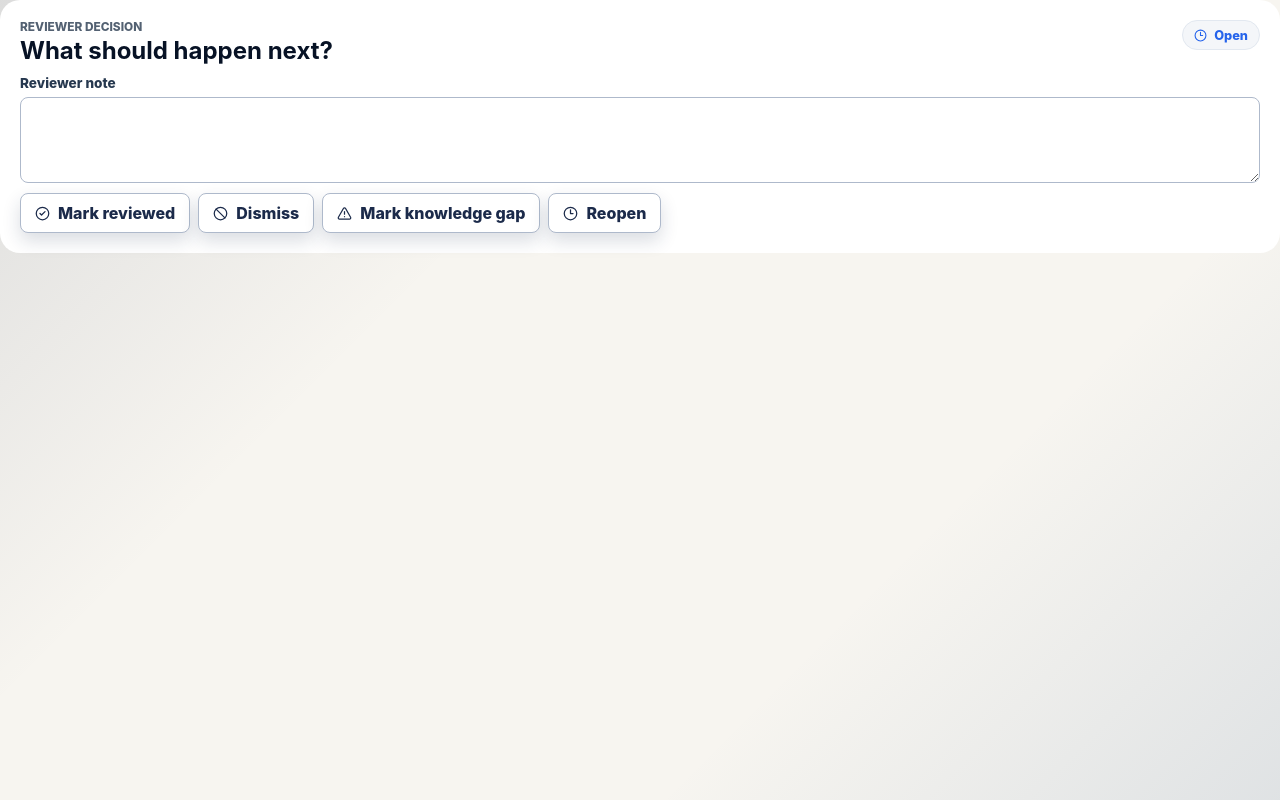
Test: ReviewDecisionForm › lets an admin submit a review status update with keyboard-accessible controls
Type "Add a refund article." into the text box labelled "Reviewer note" at (640, 140), box [20,97,1260,183]
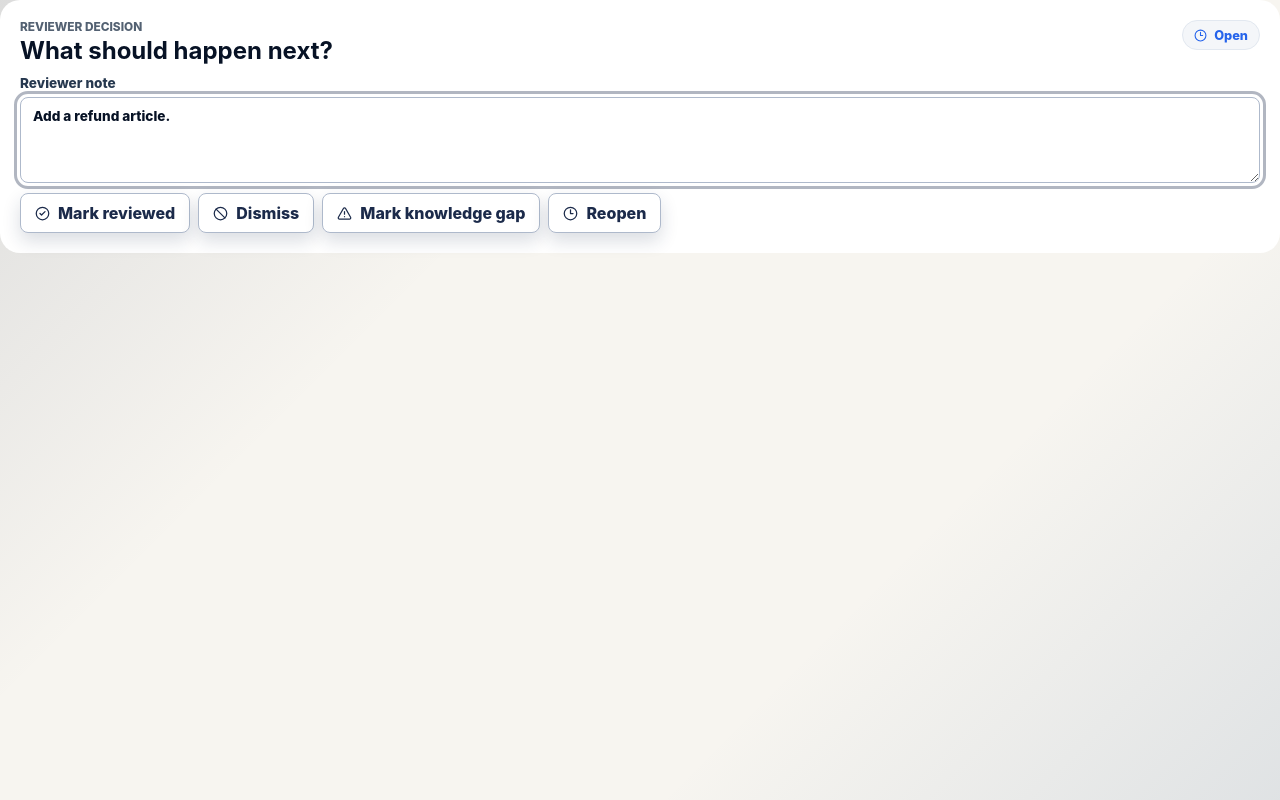
Click the button "Mark knowledge gap" at (431, 213), box [322,193,540,233]
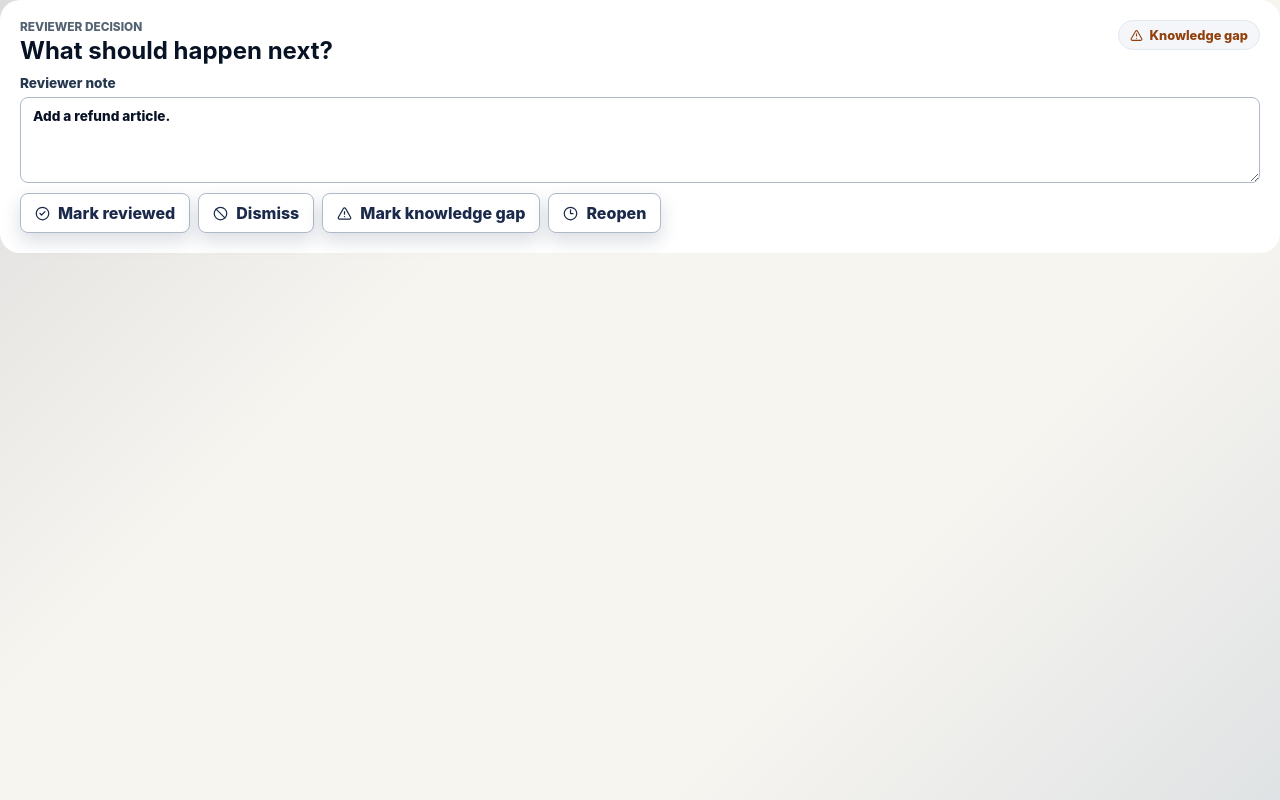
expect the text "Knowledge gap" is shown: met, box [1118,20,1260,50]
